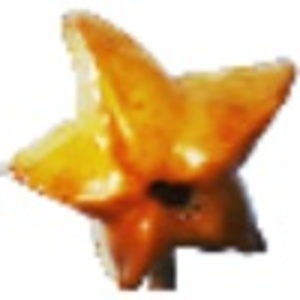carambola: (1, 9, 300, 294)
